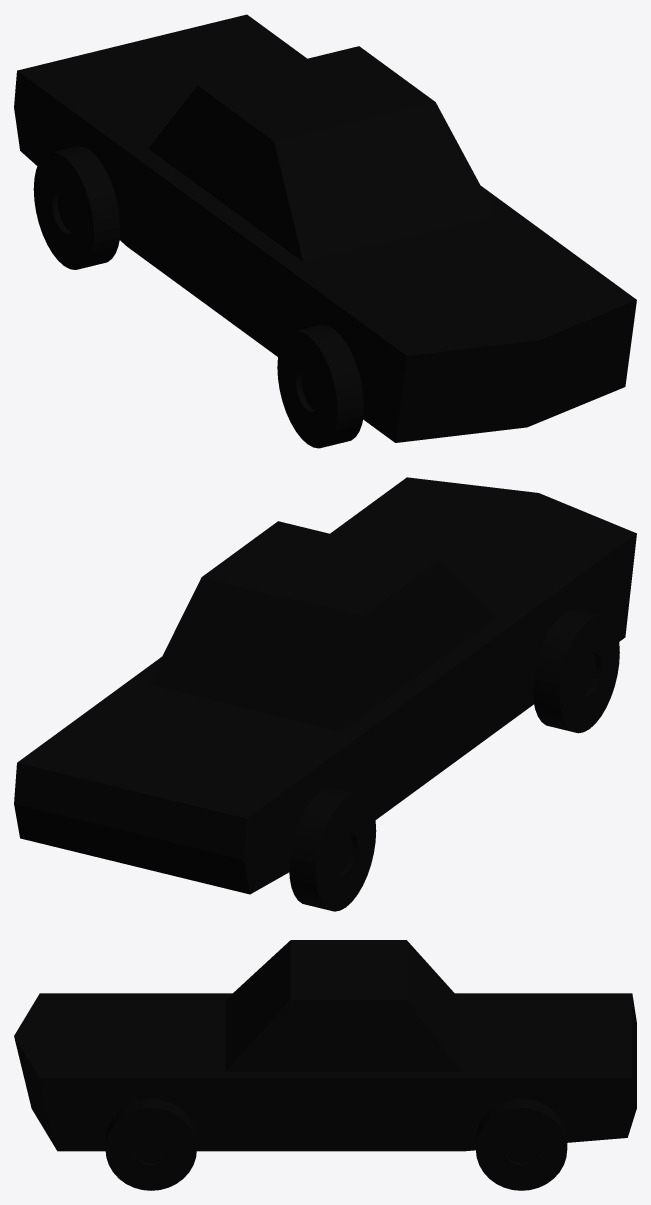
The model's file is car2.glb.
3 views of the same model, one above another, from view 1: azimuth 30°, elevation 25°; view 2: azimuth 150°, elevation 25°; view 3: azimuth 270°, elevation 25° (orthographic). The views are drawn at different scales.
Visible parts, largest first — view 1: Cube.001, Cylinder.002, Cylinder.003; view 2: Cube.001, Cylinder.003, Cylinder.002; view 3: Cube.001, Cylinder, Cylinder.001.
Boxes of the visible parts, x1,y1,x2,y2 form: Cube.001: [14, 14, 636, 442]; Cylinder.002: [277, 324, 363, 448]; Cylinder.003: [33, 146, 119, 269]; Cube.001: [14, 477, 636, 894]; Cylinder.003: [289, 787, 376, 911]; Cylinder.002: [533, 609, 619, 733]; Cube.001: [14, 940, 636, 1151]; Cylinder: [475, 1098, 567, 1190]; Cylinder.001: [105, 1098, 196, 1190].
Size of the model in its own units: 10.13 by 7.63 by 25.62.
Materials: 12 (12 with a texture image).
